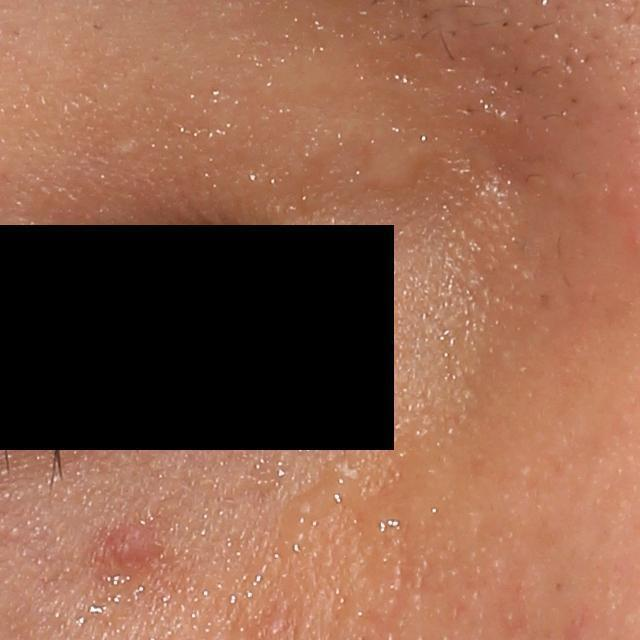papule: (96, 529, 143, 571)
